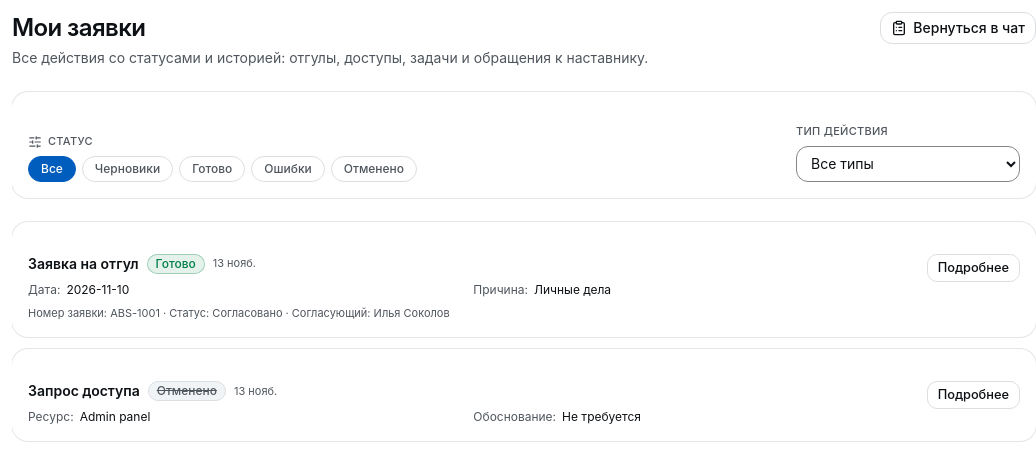
Test case: страница заявок › фильтрует по статусу
The image size is (1036, 459).
expect the heading "Заявка на отгул" is shown: met, box [28, 254, 139, 274]
Click the button "Отменено" at (374, 169), box [331, 156, 417, 182]
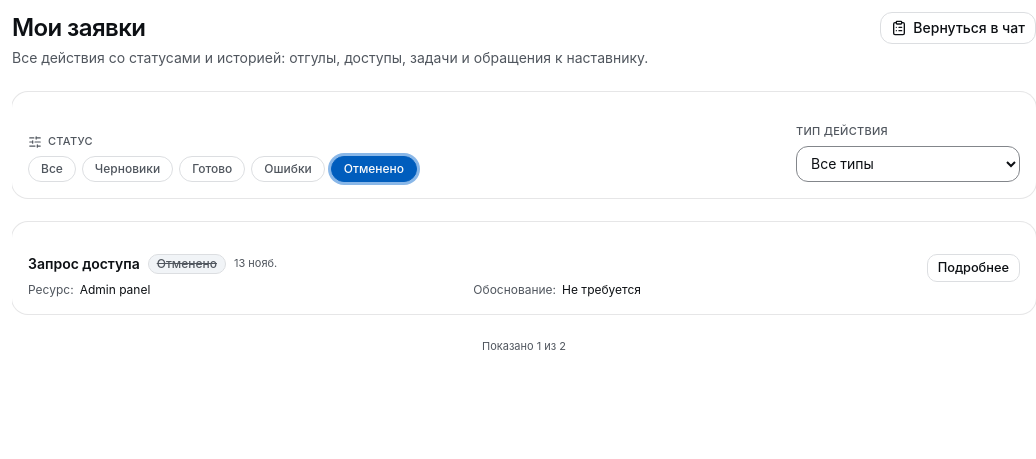
expect the heading "Запрос доступа" is shown: met, box [28, 254, 140, 274]
expect the heading "Заявка на отгул" is gone: met
